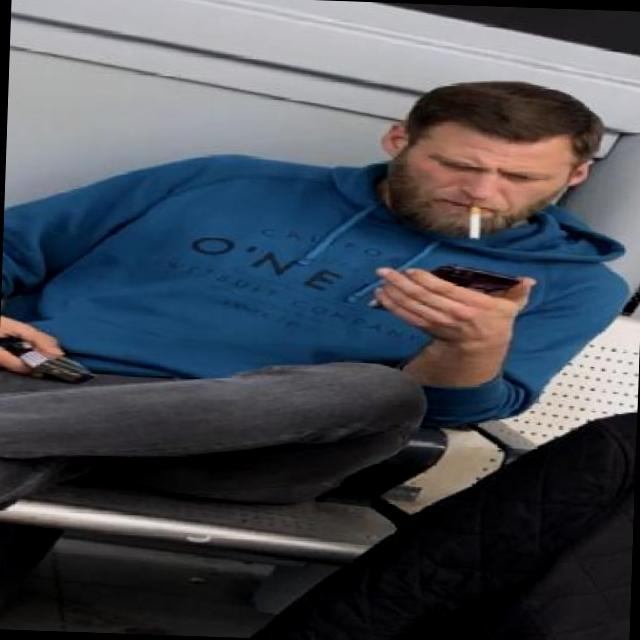cigarette: (458, 198, 491, 245)
